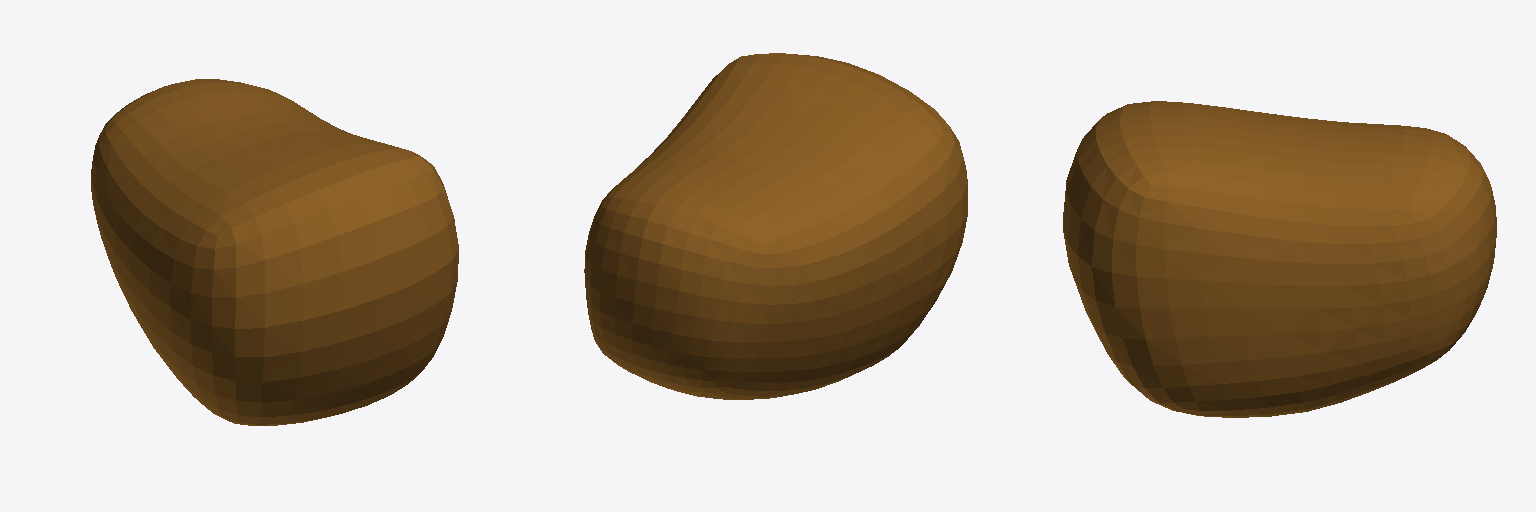
The model's file is fing2_3.obj.
3 views of the same model, side by side, from view 1: azimuth 30°, elevation 25°; view 2: azimuth 150°, elevation 25°; view 3: azimuth 270°, elevation 25° (orthographic).
Parts seen in each view (by area): view 1: f2o3; view 2: f2o3; view 3: f2o3.
Boxes of the visible parts, <box> form: f2o3: <box>91,79,458,425</box>; f2o3: <box>584,53,967,399</box>; f2o3: <box>1063,101,1496,417</box>.
Size of the model in its own units: 0.6874 by 0.6749 by 0.9763.